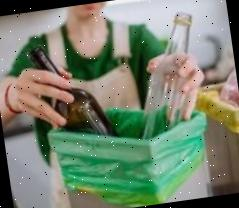glass: (126, 10, 211, 144), (27, 33, 121, 151)
